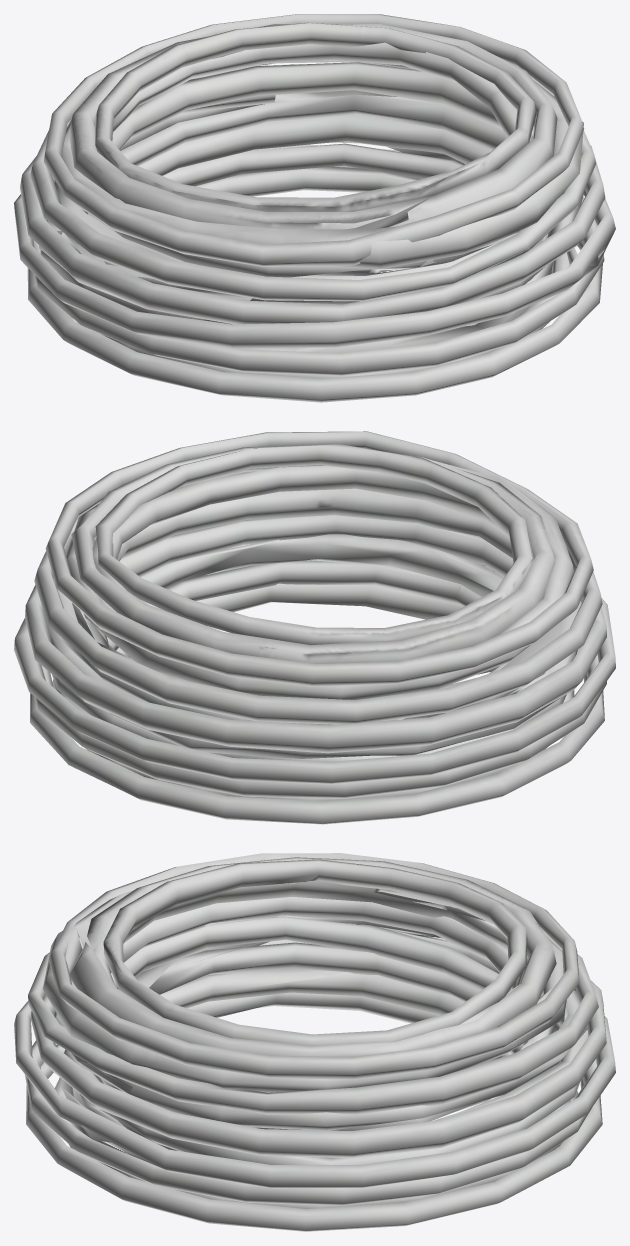
File: mg-ribbon.glb
3 renders of one model, top to bottom at view 1: azimuth 30°, elevation 25°; view 2: azimuth 150°, elevation 25°; view 3: azimuth 270°, elevation 25°, orthographic.
Size of the model in its own units: 0.9453 by 0.3086 by 0.9502.
Materials: 1 (1 with a texture image).
